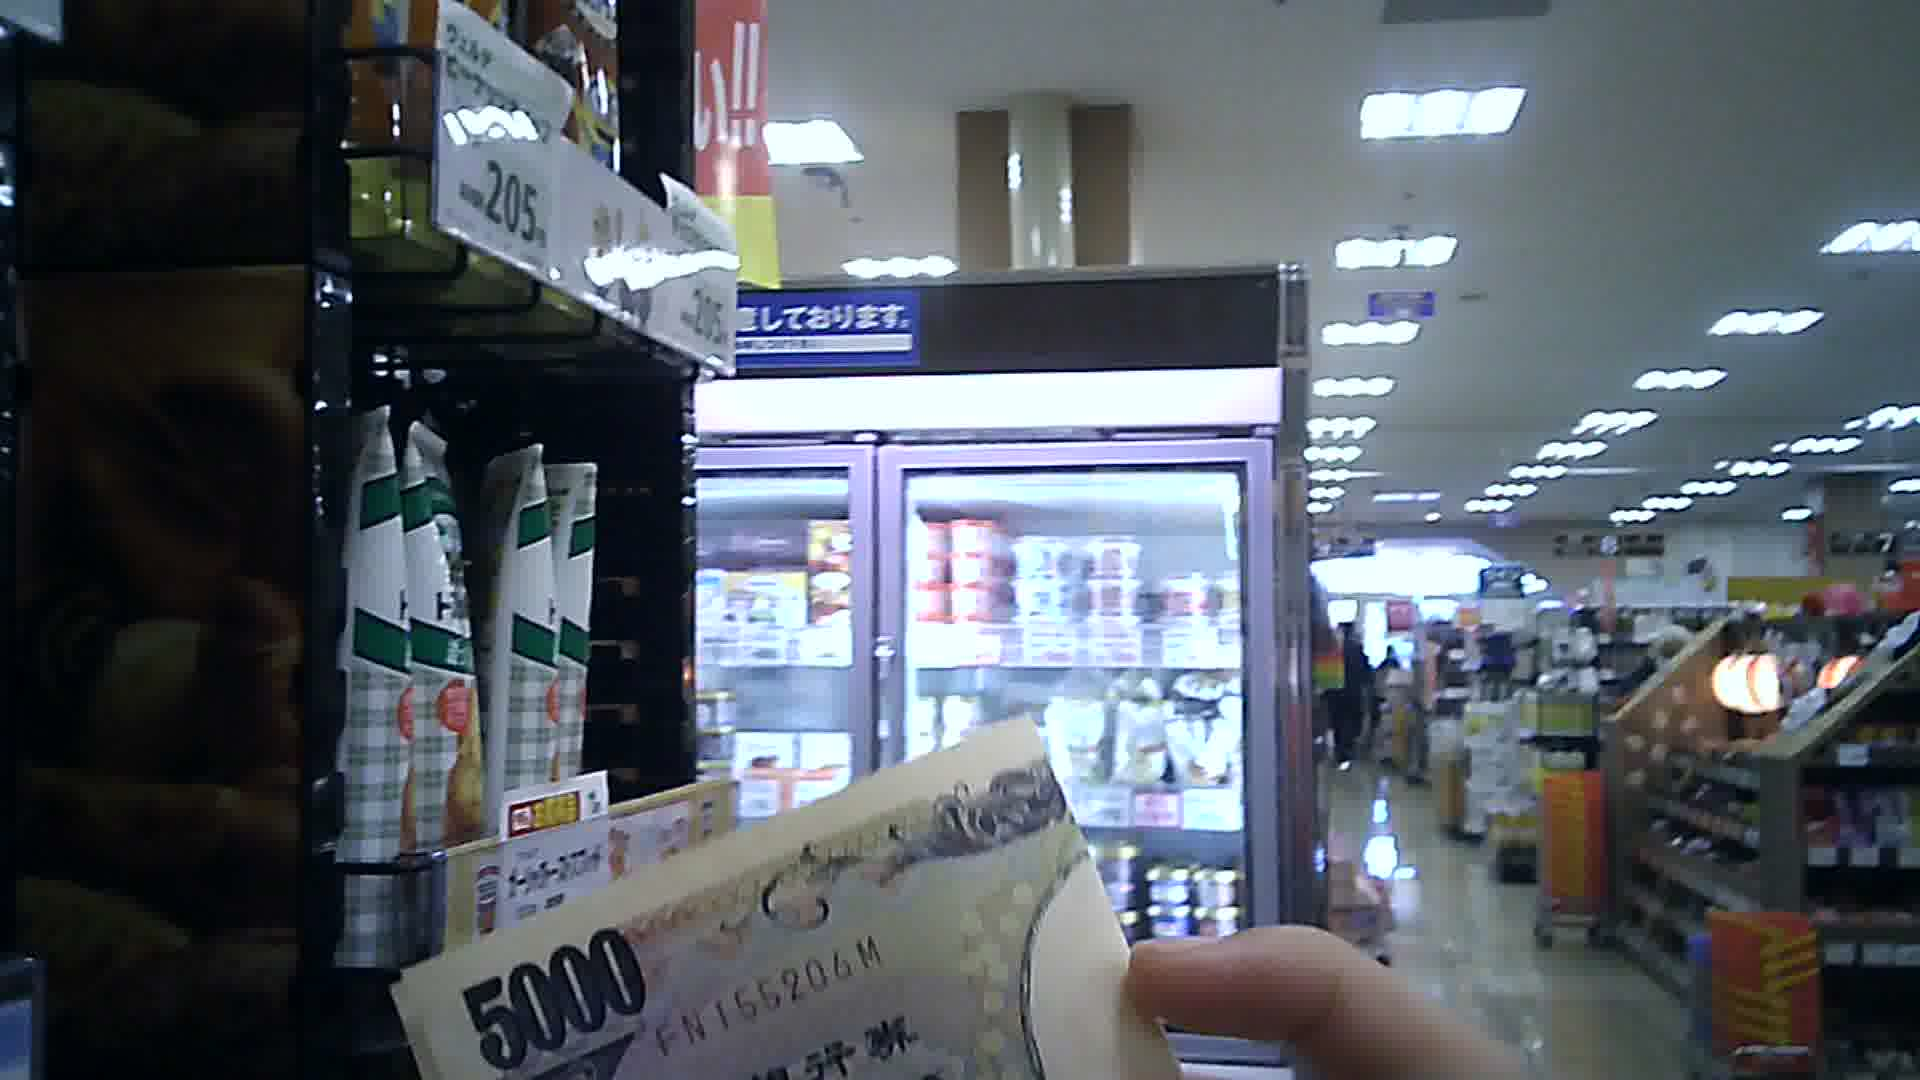5,000 Yen: (392, 700, 1178, 1079)
